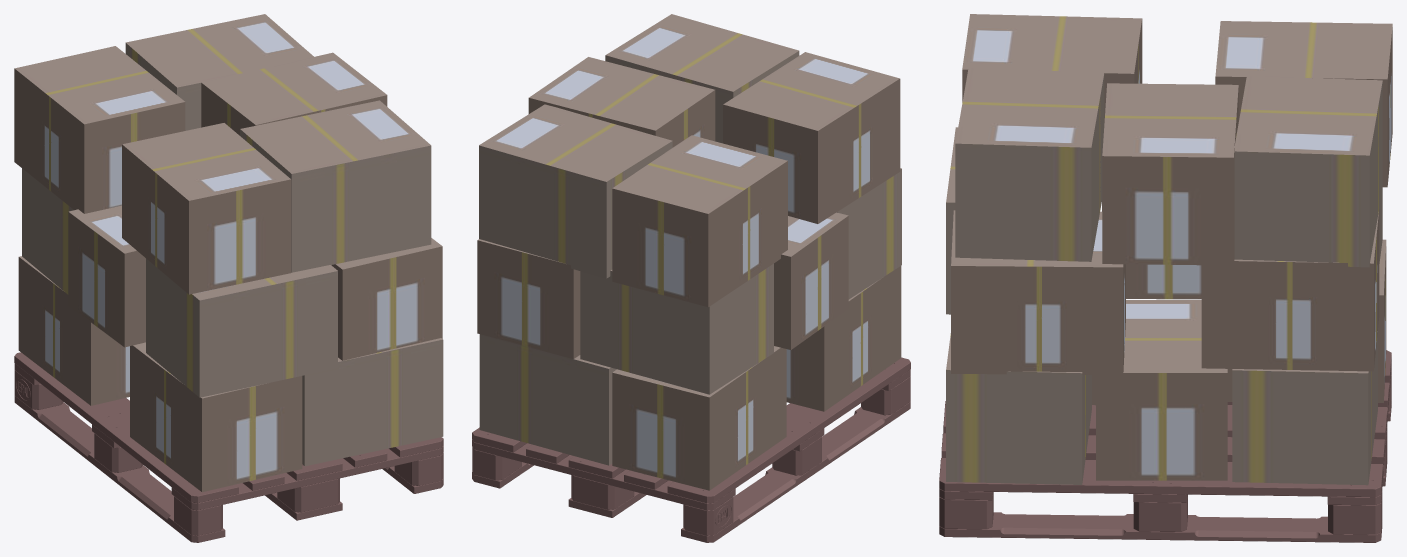
3 renders of one model, left to right at view 1: azimuth 30°, elevation 25°; view 2: azimuth 150°, elevation 25°; view 3: azimuth 270°, elevation 25°, orthographic. The views are drawn at different scales.
Parts seen in each view (by area): view 1: dus.018, EUR-pallet, dus.395, dus.020, dus.004, dus.023, dus.021, dus.003, dus.551, dus.001, dus.019, dus.022 (+2 smaller); view 2: dus.020, dus.019, EUR-pallet, dus.018, dus.553, dus.001, dus.005, dus.393, dus.004, dus.022, dus.023, dus.016 (+2 smaller); view 3: dus.019, dus.022, EUR-pallet, dus.023, dus.551, dus.002, dus.393, dus.021, dus.005, dus.003, dus.020, dus.018 (+3 smaller).
Part boxes in pixels (x1,y1,x2,y2): dus.018: (122,123,291,294); EUR-pallet: (14,352,443,542); dus.395: (146,258,337,397); dus.020: (14,46,185,213); dus.004: (130,342,302,492); dus.023: (240,100,431,270); dus.021: (240,131,431,272); dus.003: (302,338,443,466); dus.551: (331,238,442,360); dus.001: (18,256,129,405); dus.019: (125,14,313,130); dus.022: (201,52,387,135); dus.020: (612,135,787,307); dus.019: (479,104,672,278); EUR-pallet: (472,357,910,542); dus.018: (723,52,900,223); dus.553: (580,263,773,394); dus.001: (612,346,786,490); dus.005: (479,334,616,465); dus.393: (477,239,580,359); dus.004: (786,266,901,411); dus.022: (528,57,715,147); dus.023: (605,14,799,111); dus.016: (774,212,848,349); dus.019: (1234,76,1382,267); dus.022: (1102,83,1238,265); EUR-pallet: (939,350,1391,542); dus.023: (955,68,1104,259); dus.551: (951,210,1125,375); dus.002: (1096,300,1227,480); dus.393: (1201,210,1379,371); dus.021: (955,77,1104,261); dus.005: (1232,331,1377,485); dus.003: (946,333,1091,484); dus.020: (1215,21,1392,187); dus.018: (962,14,1142,122).
Bounding box in the file's own units: 1.08 × 1.32 × 1.39.
Materials: 2 (1 with a texture image).
